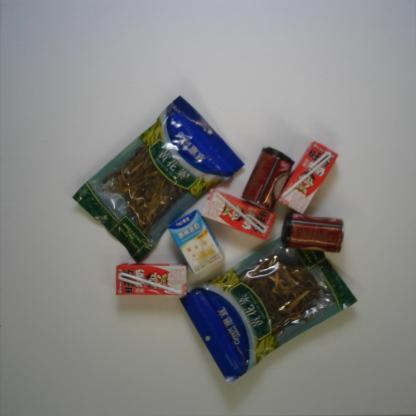Canned Food: (240, 147, 294, 212), (280, 211, 345, 254)
Dried Food: (73, 95, 244, 264), (178, 229, 358, 385)
Milk: (277, 141, 339, 216), (201, 187, 277, 240), (166, 208, 225, 276), (116, 262, 188, 296)
